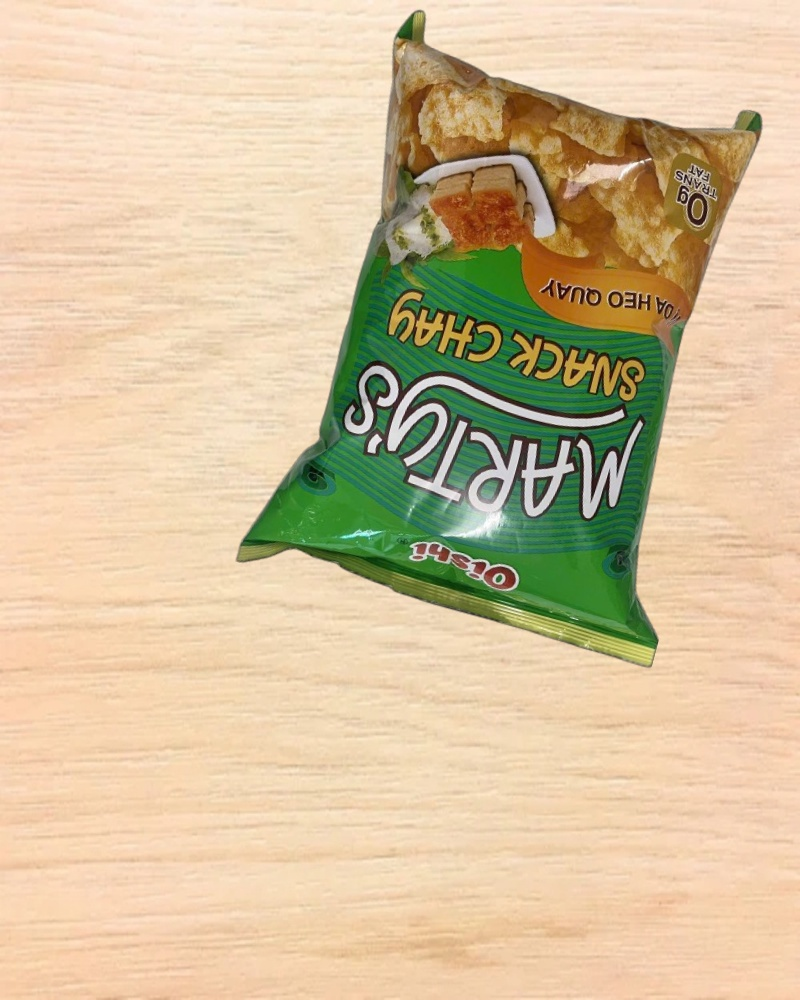Snack chay: (256, 9, 798, 672)
